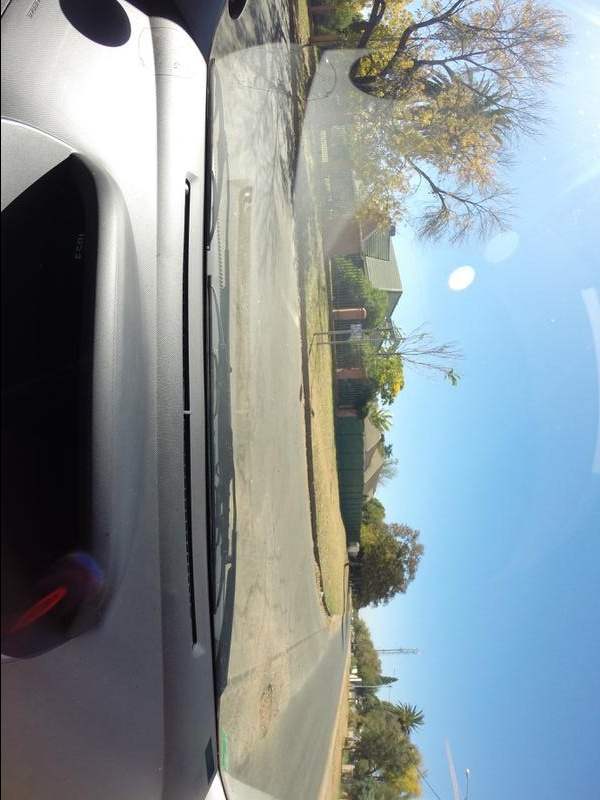pothole: (254, 680, 286, 751)
